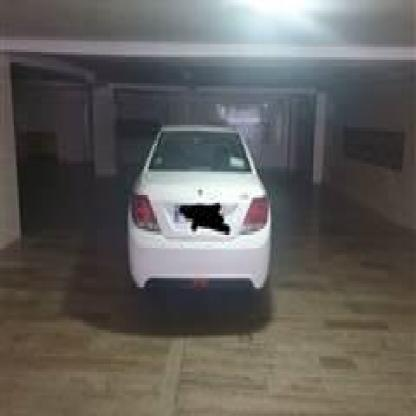Car: (112, 117, 276, 322)
